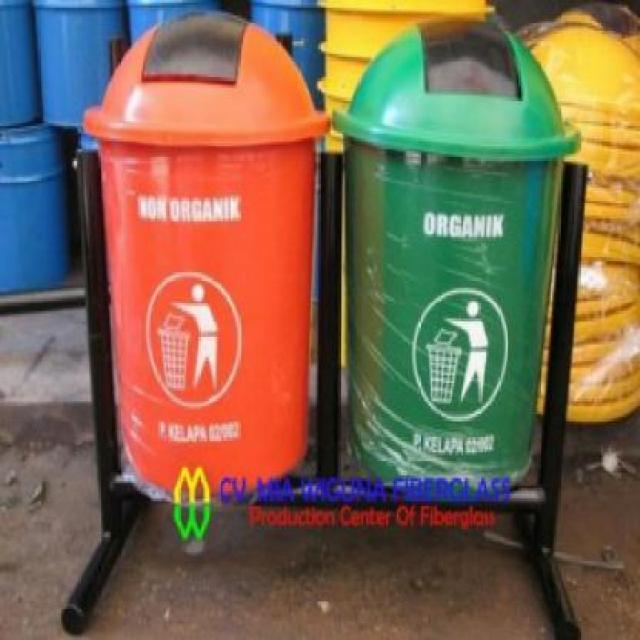garbage container: (326, 20, 586, 534), (79, 13, 335, 526)
